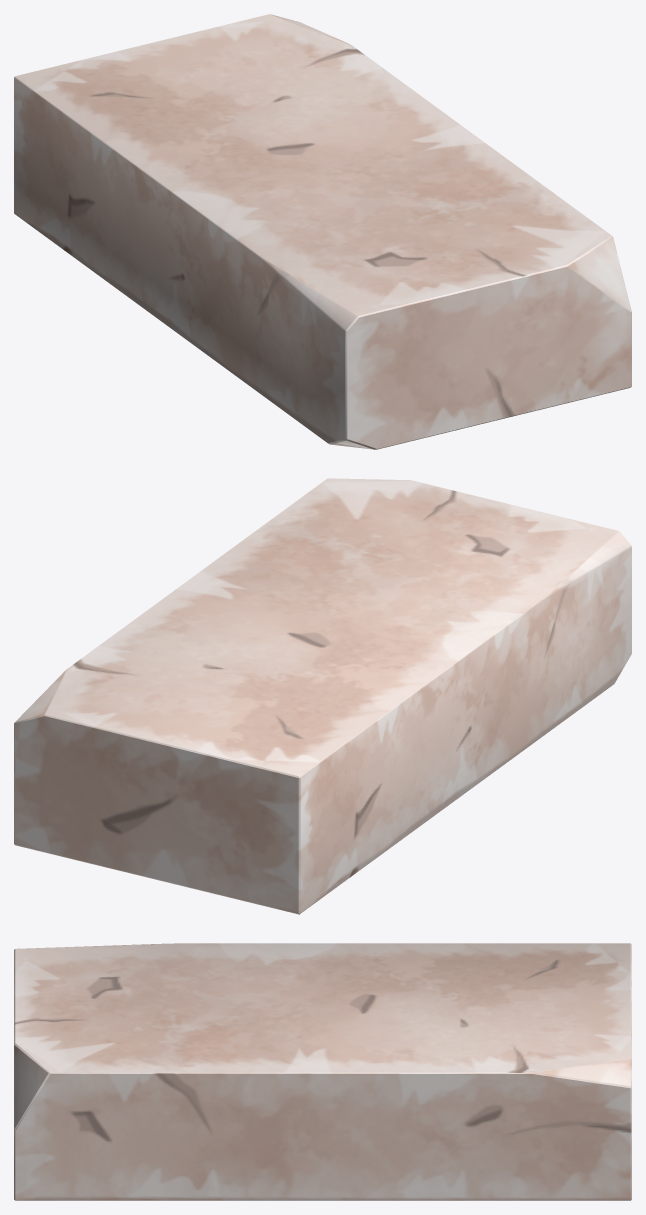
File: Z1_Stone_Step.FBX
3 views of the same model, one above another, from view 1: azimuth 30°, elevation 25°; view 2: azimuth 150°, elevation 25°; view 3: azimuth 270°, elevation 25° (orthographic). The views are drawn at different scales.
Parts seen in each view (by area): view 1: Z1_Stone_Step; view 2: Z1_Stone_Step; view 3: Z1_Stone_Step.
Part boxes in pixels (x1,y1,x2,y2): Z1_Stone_Step: [14, 14, 631, 449]; Z1_Stone_Step: [14, 478, 631, 914]; Z1_Stone_Step: [14, 943, 631, 1200].
Size of the model in its own units: 132 by 60.91 by 266.
